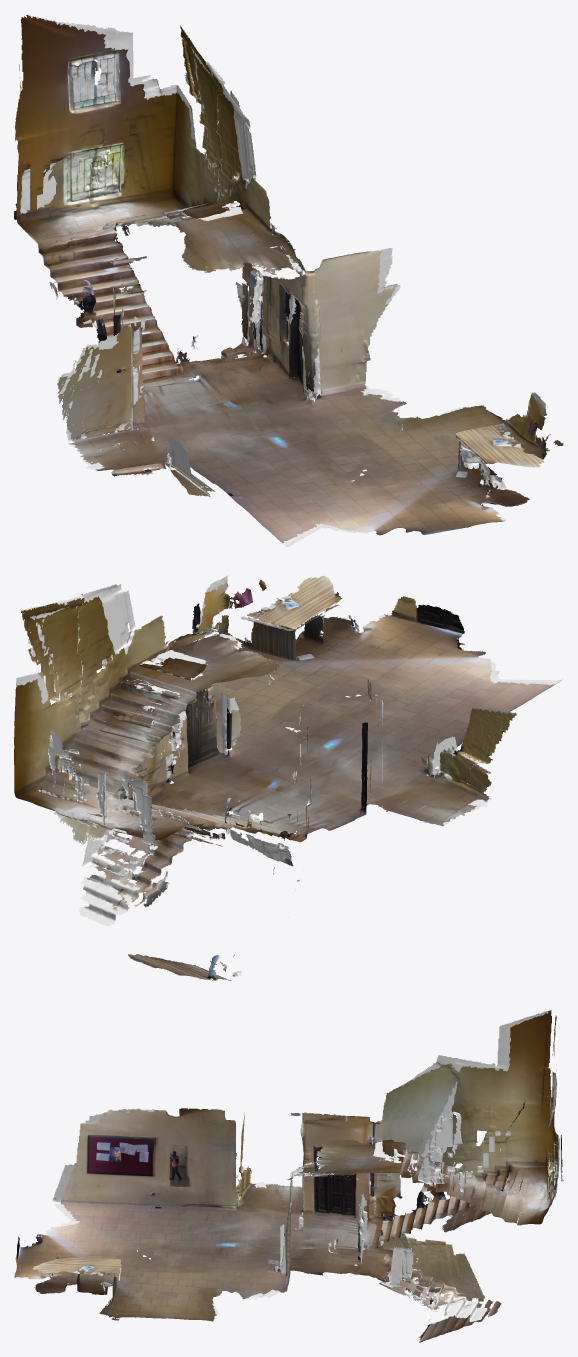
3 views of the same model, one above another, from view 1: azimuth 30°, elevation 25°; view 2: azimuth 150°, elevation 25°; view 3: azimuth 270°, elevation 25° (orthographic). The views are drawn at different scales.
Visible parts, largest first — view 1: texture_8, texture_7, texture_13, texture_5, object 4, texture_4, texture_9, texture_3, texture_10, texture_1, texture_11, texture_0 (+3 smaller); view 2: texture_13, object 4, texture_4, texture_5, texture_7, texture_6, texture_3, texture_9, texture_10, texture_12, texture_0, texture_11 (+2 smaller); view 3: texture_5, texture_1, texture_0, object 4, texture_2, texture_9, texture_4, texture_12, texture_7, texture_10, texture_11, texture_3 (+3 smaller).
Part boxes in pixels (bbox=[...]): texture_8: bbox=[14, 15, 189, 309]; texture_7: bbox=[235, 176, 549, 491]; texture_13: bbox=[56, 27, 242, 270]; texture_5: bbox=[69, 264, 438, 496]; object 4: bbox=[15, 14, 563, 546]; texture_4: bbox=[142, 393, 505, 535]; texture_9: bbox=[57, 303, 235, 468]; texture_3: bbox=[109, 232, 308, 420]; texture_10: bbox=[303, 335, 563, 506]; texture_1: bbox=[16, 61, 149, 332]; texture_11: bbox=[72, 238, 282, 409]; texture_0: bbox=[209, 365, 410, 543]; texture_13: bbox=[14, 596, 207, 841]; object 4: bbox=[16, 575, 562, 980]; texture_4: bbox=[254, 596, 491, 798]; texture_5: bbox=[174, 696, 492, 826]; texture_7: bbox=[125, 593, 354, 769]; texture_6: bbox=[14, 603, 279, 817]; texture_3: bbox=[60, 630, 315, 966]; texture_9: bbox=[271, 677, 516, 834]; texture_10: bbox=[197, 575, 374, 746]; texture_12: bbox=[97, 631, 273, 980]; texture_0: bbox=[374, 657, 555, 747]; texture_11: bbox=[123, 767, 308, 971]; texture_5: bbox=[124, 1108, 381, 1303]; texture_1: bbox=[407, 1013, 558, 1221]; texture_0: bbox=[61, 1108, 196, 1258]; object 4: bbox=[15, 1010, 563, 1324]; texture_2: bbox=[347, 1063, 459, 1250]; texture_9: bbox=[238, 1112, 391, 1270]; texture_4: bbox=[14, 1108, 327, 1286]; texture_12: bbox=[301, 1144, 501, 1342]; texture_7: bbox=[76, 1159, 412, 1320]; texture_10: bbox=[32, 1256, 252, 1321]; texture_11: bbox=[291, 1187, 490, 1337]; texture_3: bbox=[290, 1173, 487, 1326].
Bounding box in the file's own units: 9.15 × 9.18 × 14.76.
Materials: 15 (14 with a texture image).
